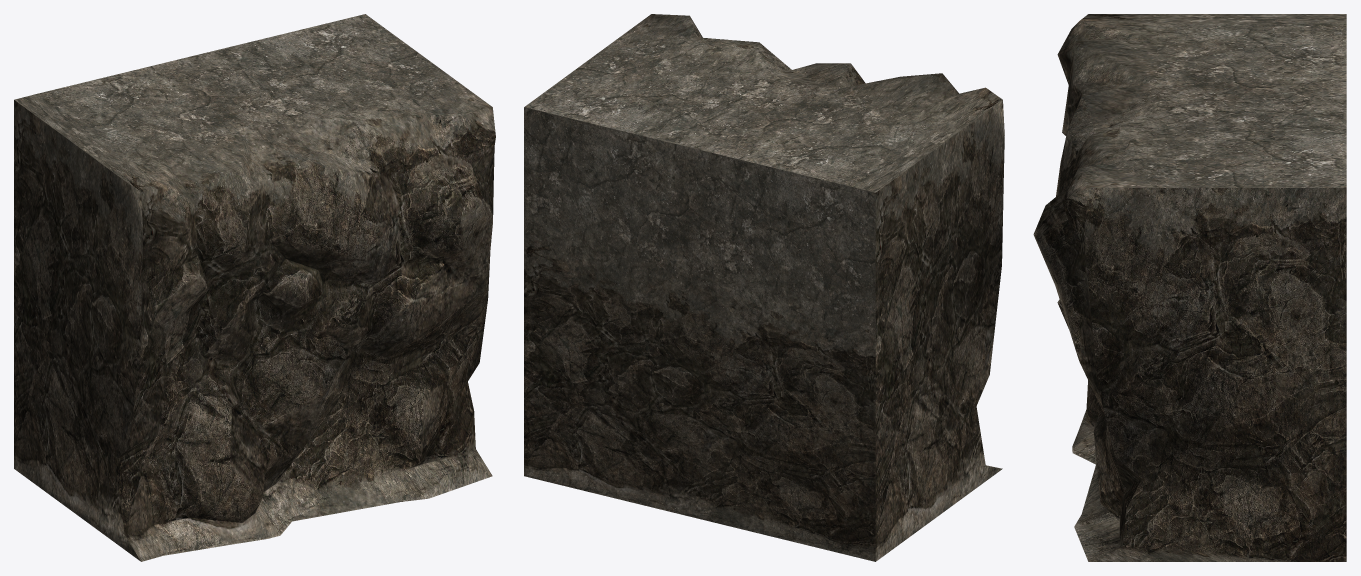
The model's file is SM_Env_Fire_Cliffs_CliffWall_01a.FBX.
The picture shows the model from 3 angles, left to right: view 1: azimuth 30°, elevation 25°; view 2: azimuth 150°, elevation 25°; view 3: azimuth 270°, elevation 25°; orthographic projection.
Visible parts, largest first — view 1: SM_Env_Fire_Cliffs_CliffWall_01a; view 2: SM_Env_Fire_Cliffs_CliffWall_01a; view 3: SM_Env_Fire_Cliffs_CliffWall_01a.
Boxes of the visible parts, left/top/right/bottom form: SM_Env_Fire_Cliffs_CliffWall_01a: left=14, top=14, right=495, bottom=561; SM_Env_Fire_Cliffs_CliffWall_01a: left=524, top=14, right=1004, bottom=561; SM_Env_Fire_Cliffs_CliffWall_01a: left=1033, top=14, right=1346, bottom=561.
Bounding box in the file's own units: 1020 × 776 × 1038.
